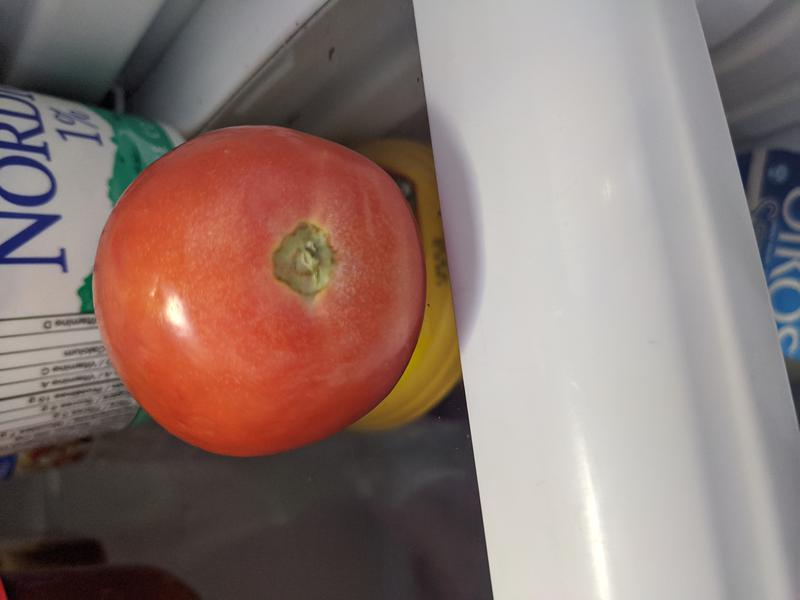tomato: (92, 125, 427, 459)
